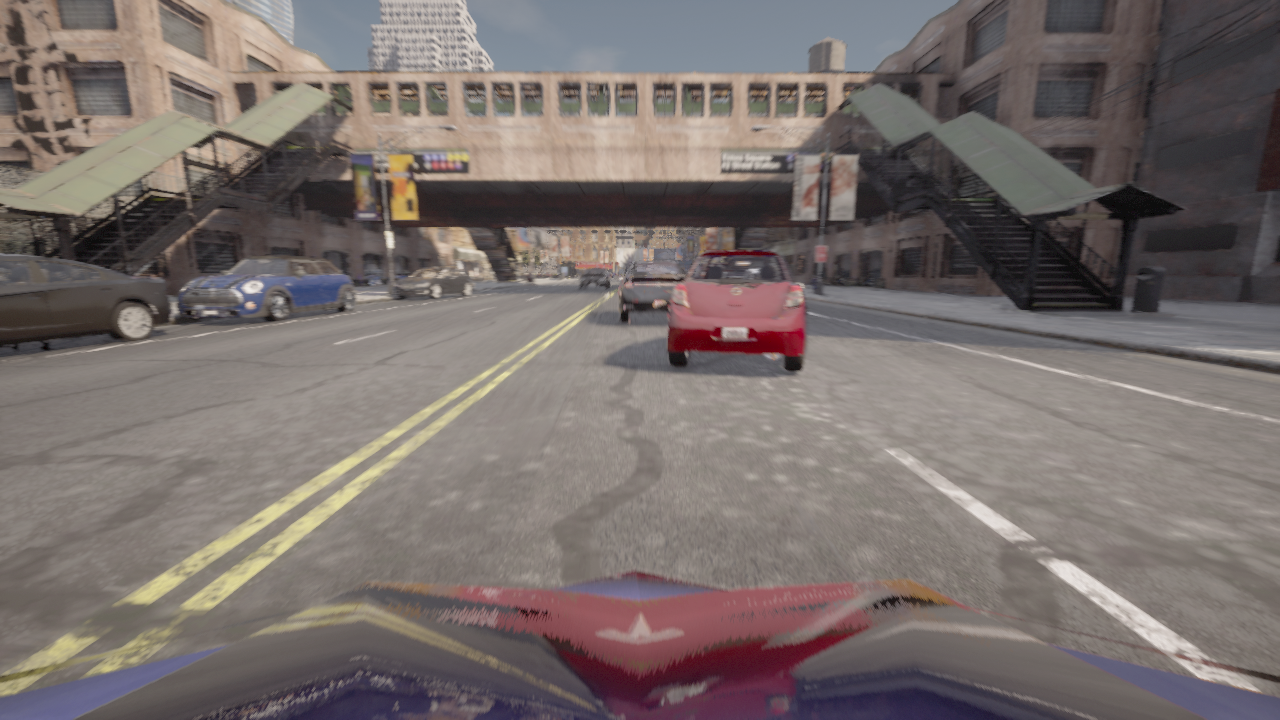cyclist: (0, 569, 1279, 719), (667, 250, 806, 371), (178, 255, 355, 321), (616, 262, 686, 322), (394, 267, 473, 299), (579, 267, 610, 289), (807, 274, 819, 294), (536, 273, 552, 277), (526, 272, 532, 282), (554, 275, 571, 277), (685, 270, 689, 275), (612, 273, 614, 277), (615, 273, 617, 277), (619, 273, 621, 276)
